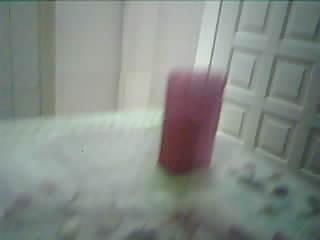lego: (158, 70, 228, 171)
